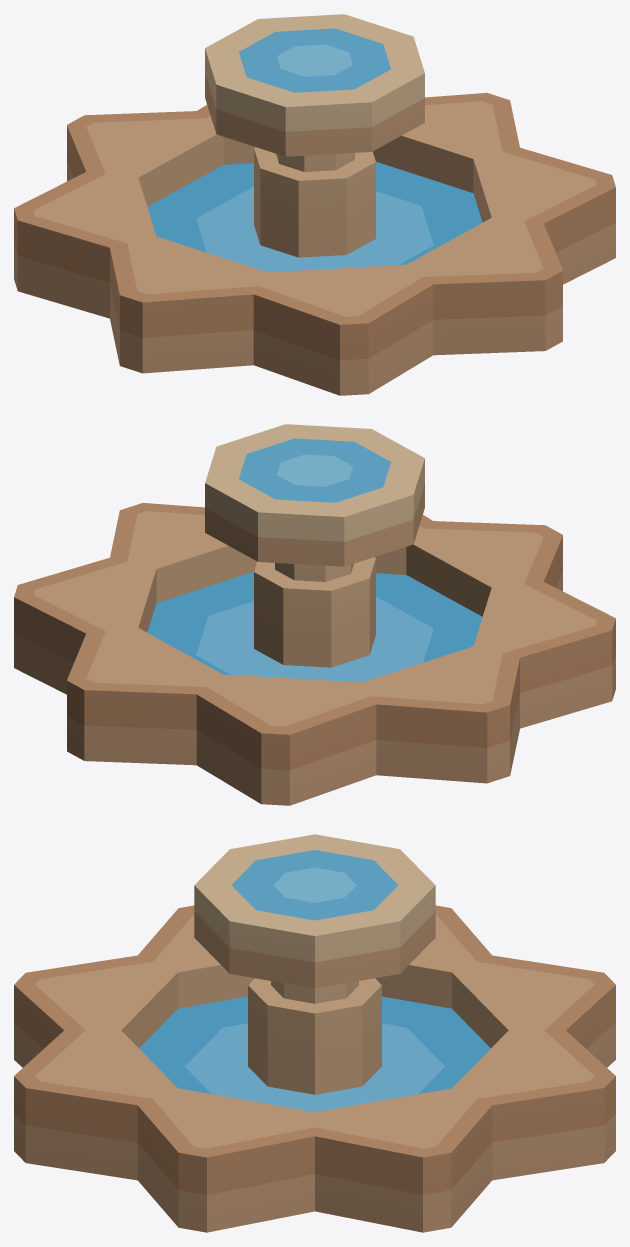
Rendered from new_fountain.fbx.
The picture shows the model from 3 angles, top to bottom: view 1: azimuth 30°, elevation 25°; view 2: azimuth 150°, elevation 25°; view 3: azimuth 270°, elevation 25°; orthographic projection. The views are drawn at different scales.
Visible parts, largest first — view 1: fountain 1; view 2: fountain 1; view 3: fountain 1.
Boxes of the visible parts, box(x1,y1,x2,y2) form: fountain 1: box(14, 14, 615, 395); fountain 1: box(14, 424, 615, 805); fountain 1: box(14, 834, 615, 1232).
Size of the model in its own units: 454 by 183 by 454.
